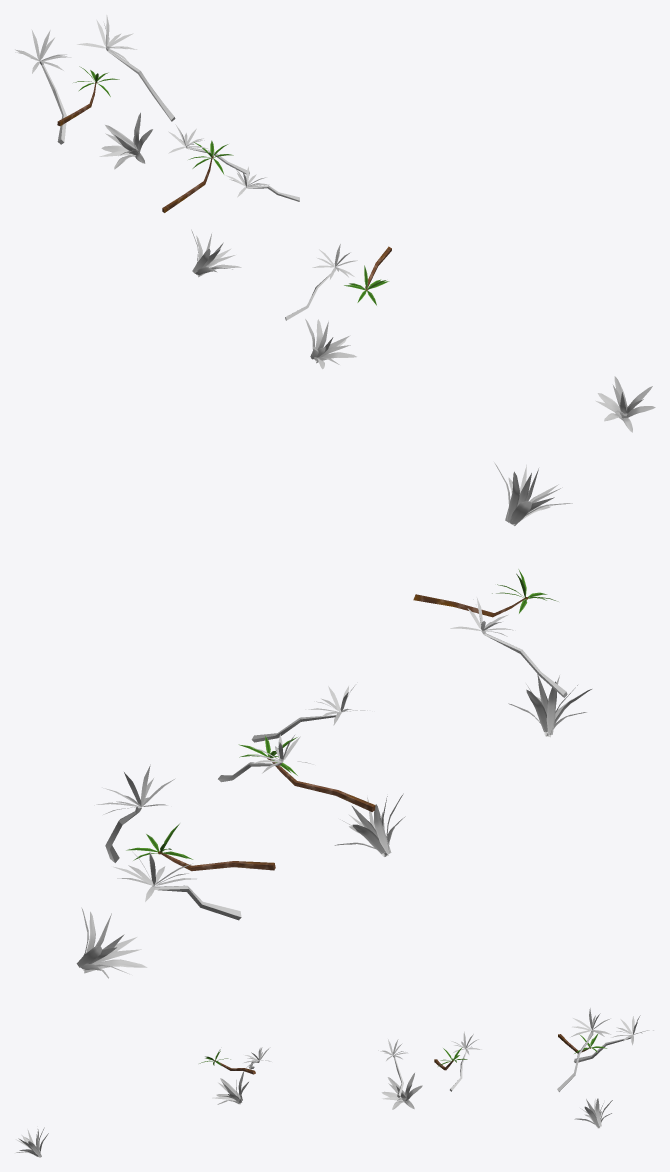
File: Plants_FBX.fbx
3 views of the same model, one above another, from view 1: azimuth 30°, elevation 25°; view 2: azimuth 150°, elevation 25°; view 3: azimuth 270°, elevation 25° (orthographic). The views are drawn at different scales.
Visible parts, largest first — view 1: Plants; view 2: Plants; view 3: Plants.
Boxes of the visible parts, x1,y1,x2,y2 form: Plants: (15, 15, 655, 432); Plants: (76, 462, 591, 978); Plants: (15, 1008, 653, 1157).
Size of the model in its own units: 26.26 by 17.49 by 93.25.
